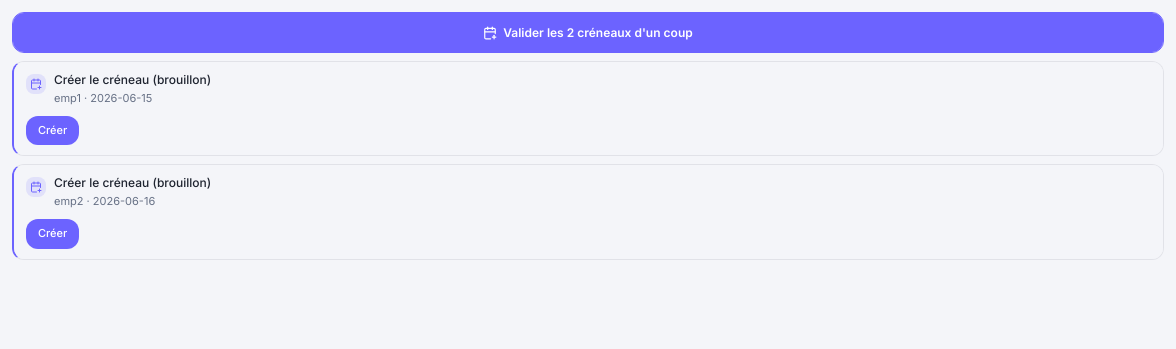
Scenario: MarkdownText — validation groupée de plusieurs create_shift › signale les créneaux en échec après une validation groupée, sans bloquer les autres
What coordinates should you click on to do the following:
click the button "Valider les 2 créneaux d'un coup"
I would click on:
 (588, 33)
Its box is [13,13,1163,52].
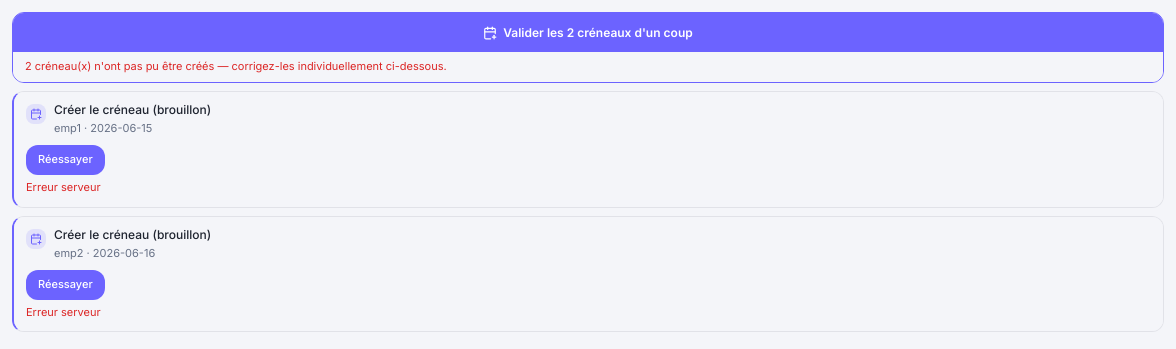
Check: the number of buttons "Réessayer" is 2, box [26,145,105,175]; [26,270,105,300]
Check: the text "2 créneau(x) n'ont pas pu être créés" is shown, box [13,52,1163,82]
